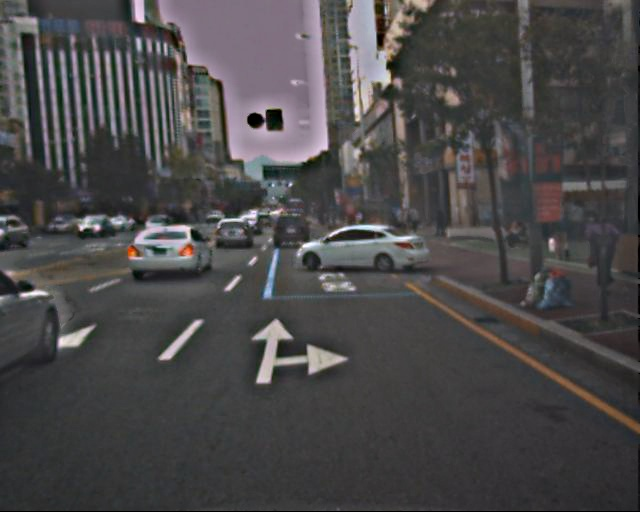person: (587, 209, 620, 289), (549, 200, 573, 259), (433, 206, 447, 239), (408, 207, 419, 234)
